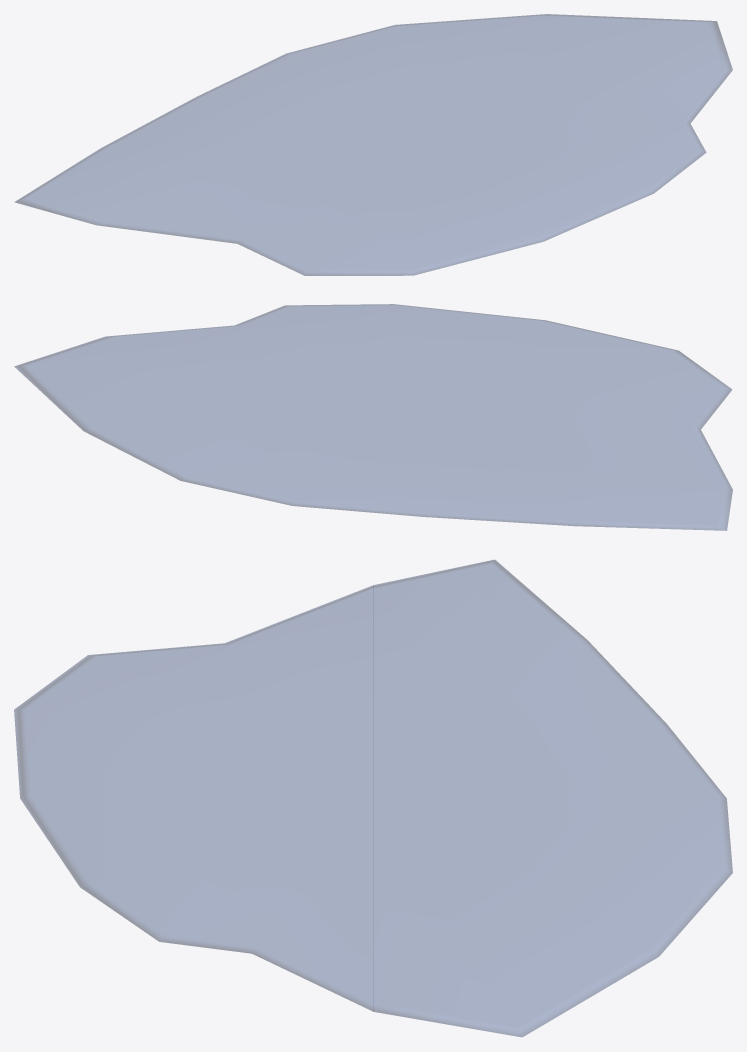
File: puddle.glb
3 renders of one model, top to bottom at view 1: azimuth 30°, elevation 25°; view 2: azimuth 150°, elevation 25°; view 3: azimuth 270°, elevation 25°, orthographic. The views are drawn at different scales.
Visible parts, largest first — view 1: puddle; view 2: puddle; view 3: puddle.
Boxes of the visible parts, x1=… form: puddle: x1=14, y1=14, x2=732, y2=275; puddle: x1=14, y1=304, x2=732, y2=530; puddle: x1=14, y1=559, x2=732, y2=1037.
Bounding box in the file's own units: 1.39 × 0.005 × 0.8829.
